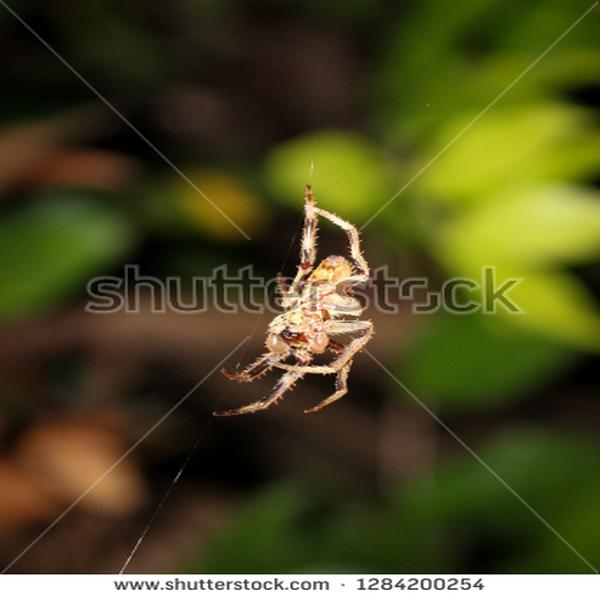Garden Orb Weaver Spider: (228, 189, 372, 421)
